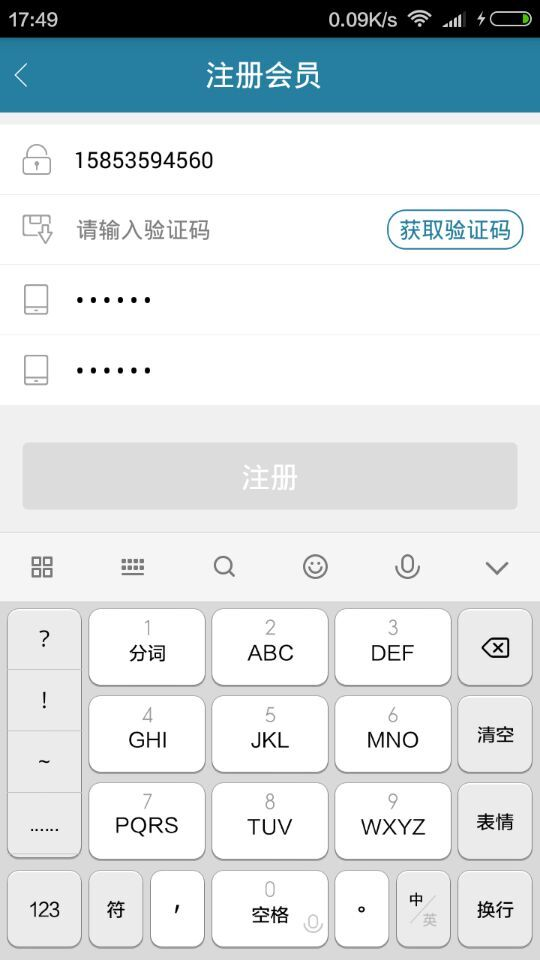imgview: (198, 542, 248, 591)
